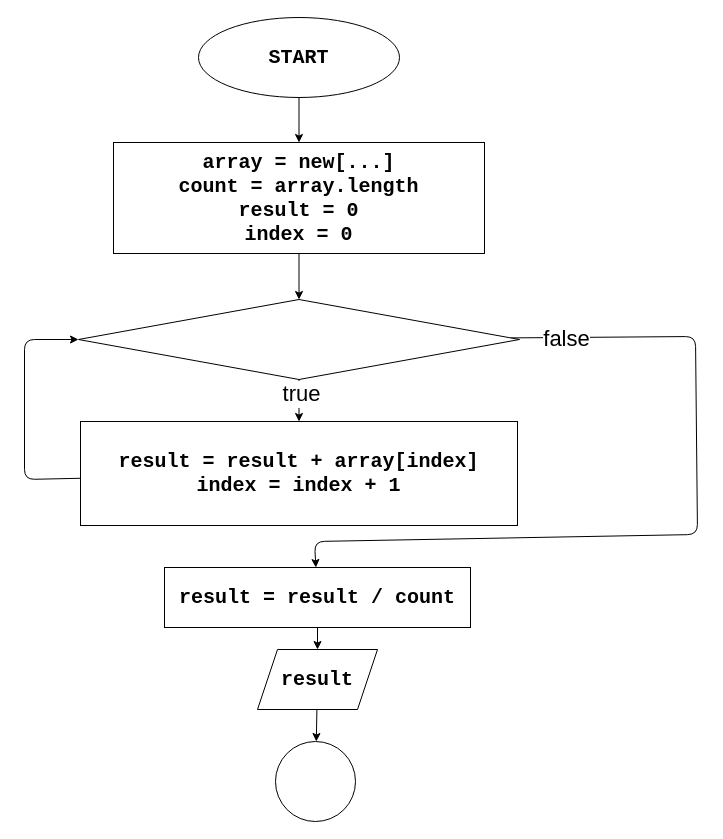
The diagram is 723 pixels wide and 839 high, and some of its shapes have lost their labels. Each missing label, with the centre of its shape:
end: point 315,781
index < count: point 299,339
